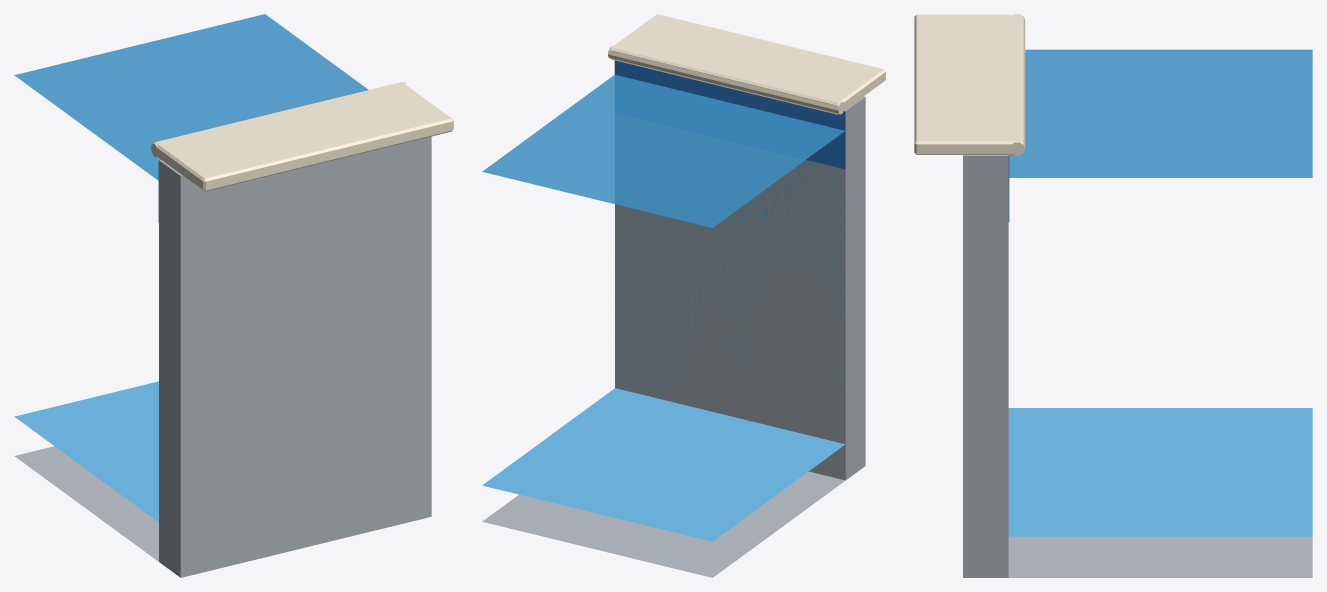
Rendered from piscina_borda.glb.
3 renders of one model, left to right at view 1: azimuth 30°, elevation 25°; view 2: azimuth 150°, elevation 25°; view 3: azimuth 270°, elevation 25°, orthographic. The views are drawn at different scales.
Parts seen in each view (by area): view 1: piscina_borda; view 2: piscina_borda; view 3: piscina_borda.
Part boxes in pixels (x1=…): piscina_borda: x1=14, y1=14, x2=453, y2=577; piscina_borda: x1=482, y1=14, x2=885, y2=577; piscina_borda: x1=914, y1=14, x2=1312, y2=577.
Bounding box in the file's own units: 1 × 1.58 × 1.31.
Materials: 3 (1 with a texture image).
